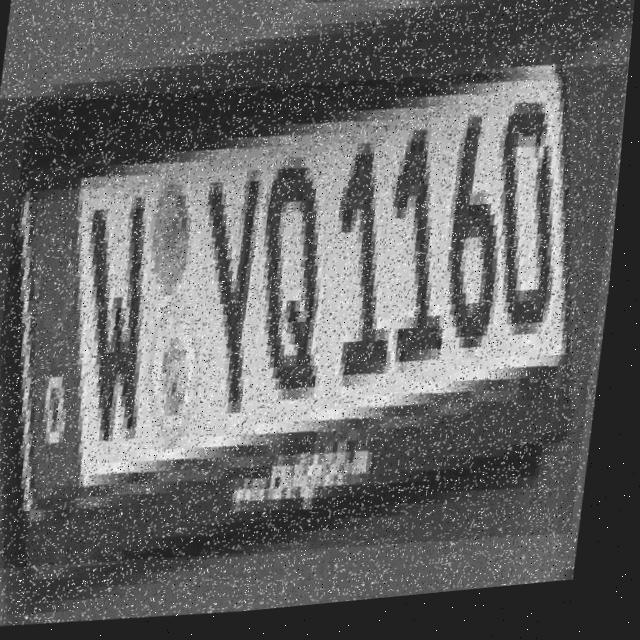LicensePlate: (0, 56, 632, 591)
